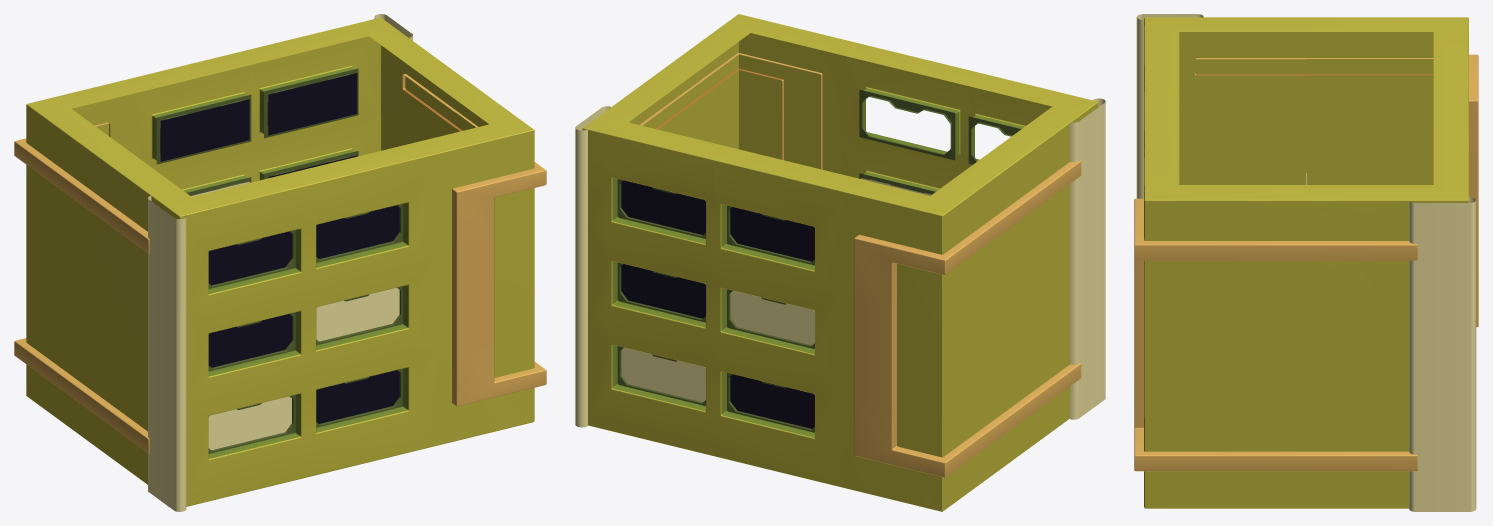
The model's file is BStruct_ House_A.fbx.
The picture shows the model from 3 angles, left to right: view 1: azimuth 30°, elevation 25°; view 2: azimuth 150°, elevation 25°; view 3: azimuth 270°, elevation 25°; orthographic projection. The views are drawn at different scales.
Parts seen in each view (by area): view 1: BS_House, BS_House.001, BS_House_Glass.001; view 2: BS_House.001, BS_House, BS_House_Glass.001; view 3: BS_House, BS_House.001.
Part boxes in pixels (<box>): BS_House: <box>95,73,546,511</box>; BS_House.001: <box>14,14,458,451</box>; BS_House_Glass.001: <box>160,73,399,450</box>; BS_House.001: <box>575,71,1028,511</box>; BS_House: <box>660,14,1105,454</box>; BS_House_Glass.001: <box>621,178,931,428</box>; BS_House: <box>1134,14,1306,508</box>; BS_House.001: <box>1306,17,1478,511</box>.
Bounding box in the file's own units: 794 × 600 × 606.
